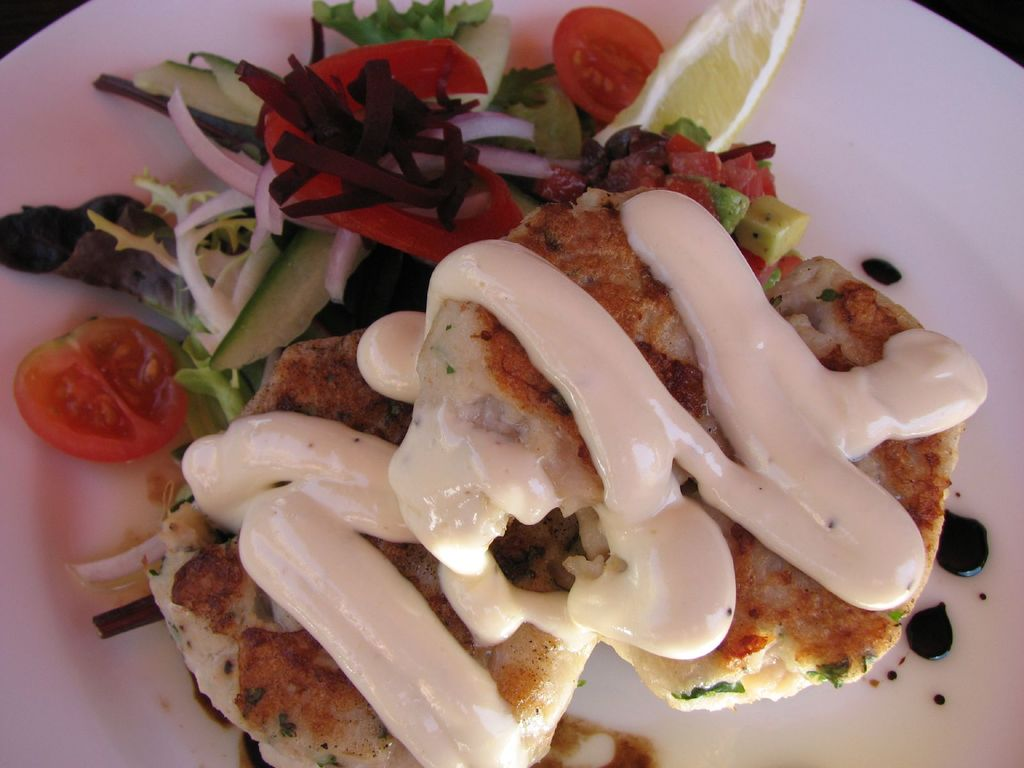Tomato: (19, 324, 206, 473), (554, 5, 662, 119)
